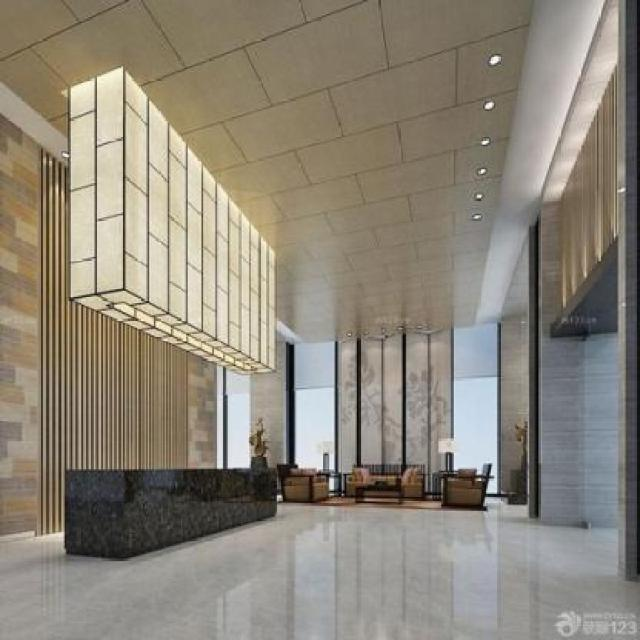frontdesk: (49, 454, 283, 561)
